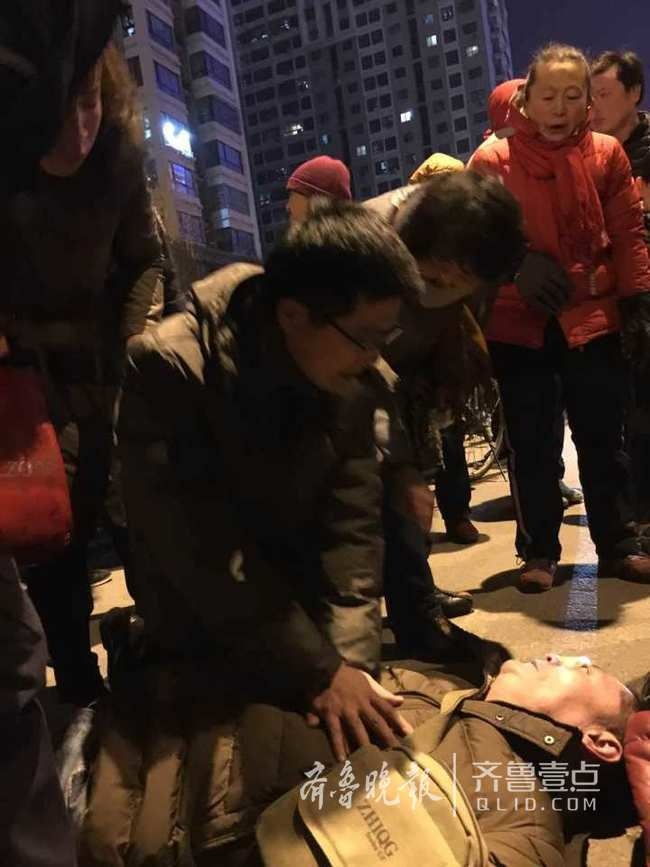falling: (57, 623, 650, 863)
